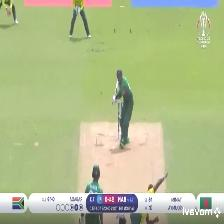ball: (108, 141, 119, 153)
batsman: (108, 63, 136, 152)
